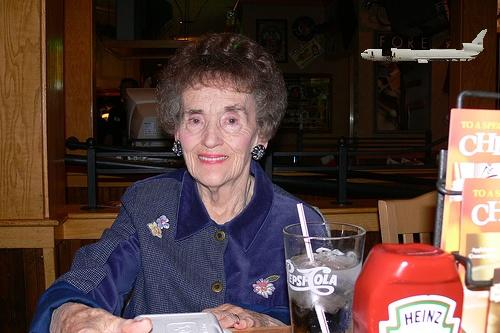tampered: (362, 30, 487, 63)
